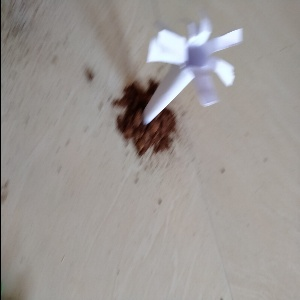weed: (136, 19, 236, 131)
